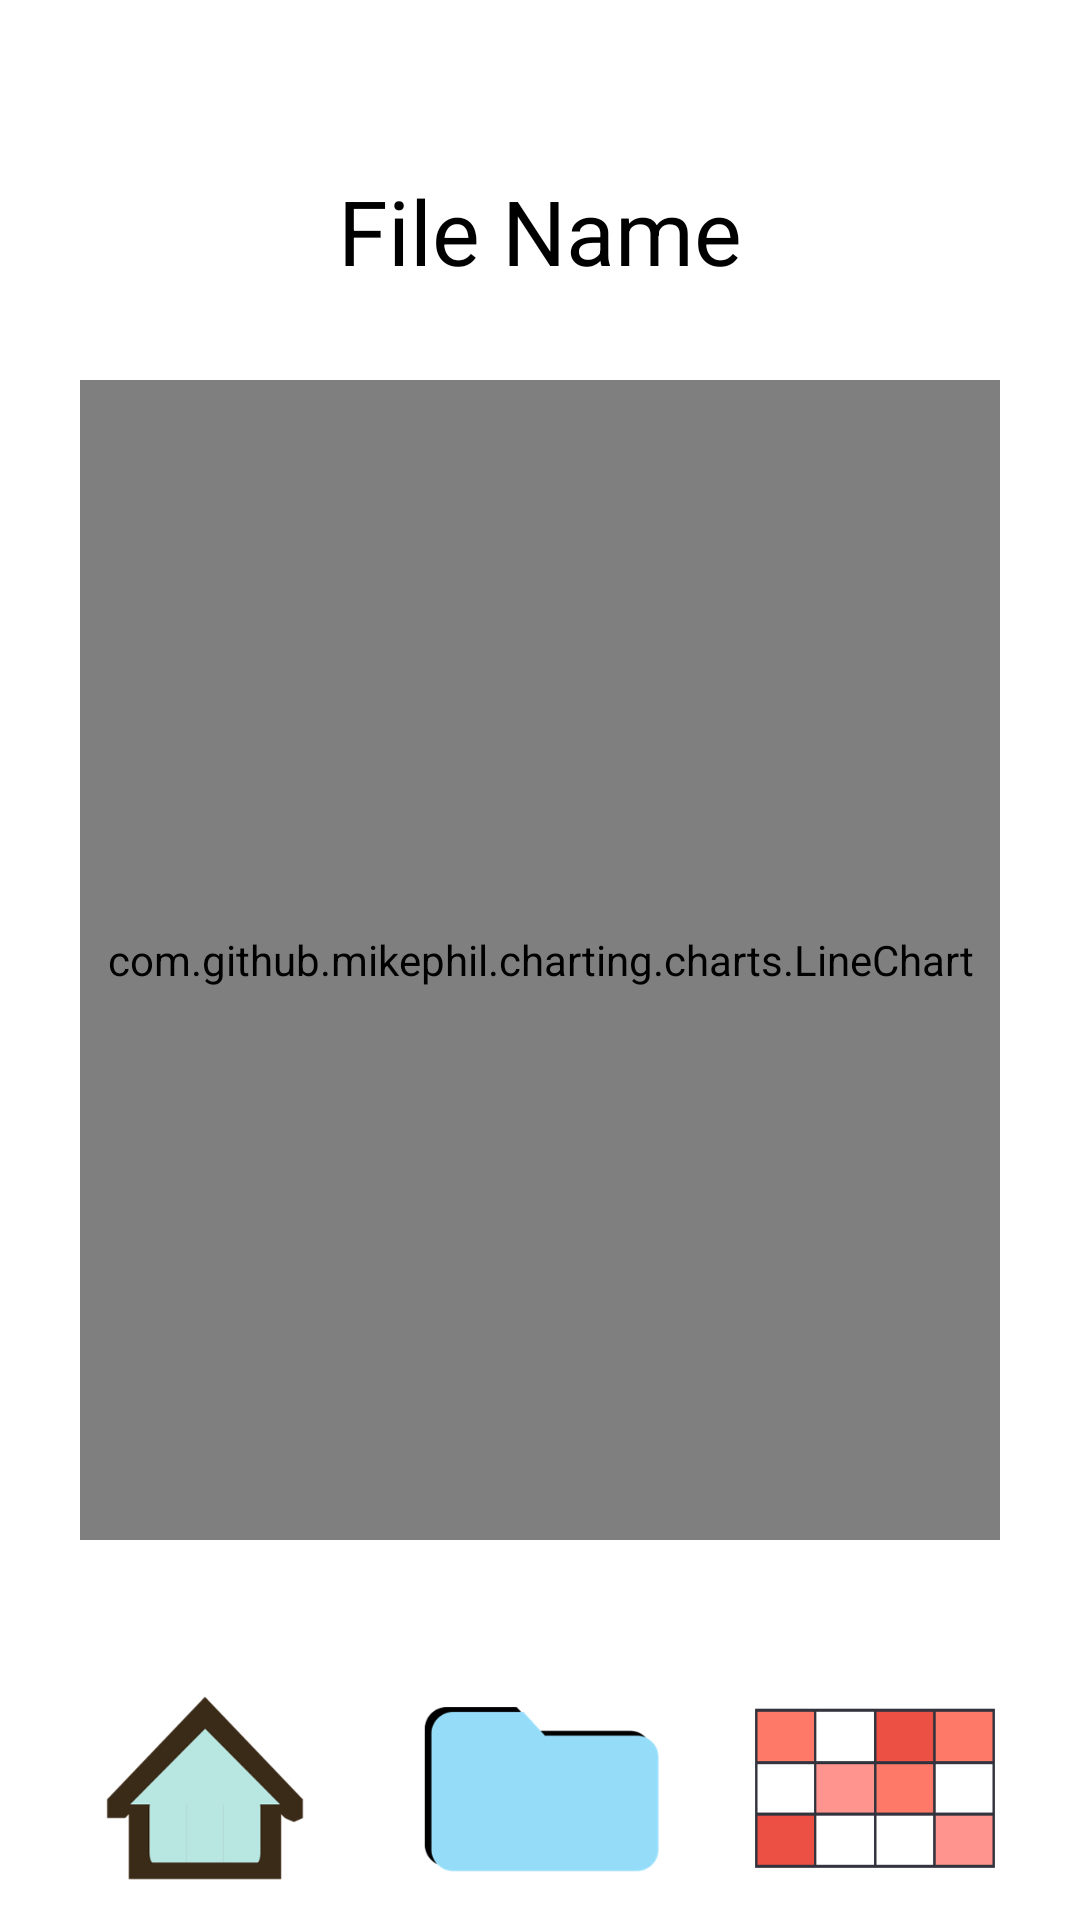

Icon click points for this 1080px x 1920px phone screenshot, format [x,y]:
file: [541,1789]
heatmap: [875,1788]
home: [205,1788]
